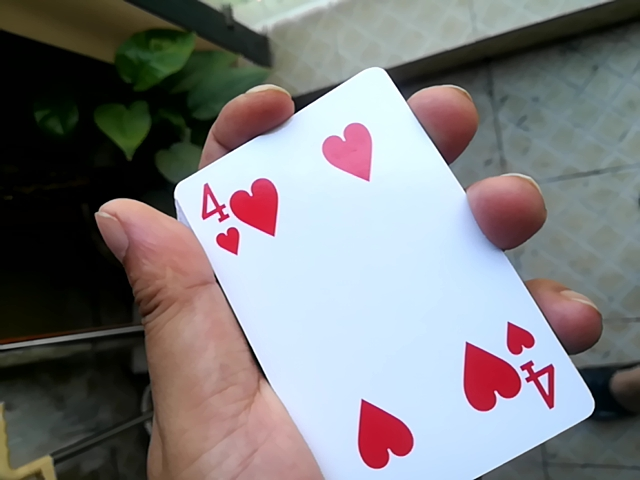hx 4: (169, 69, 582, 480)
